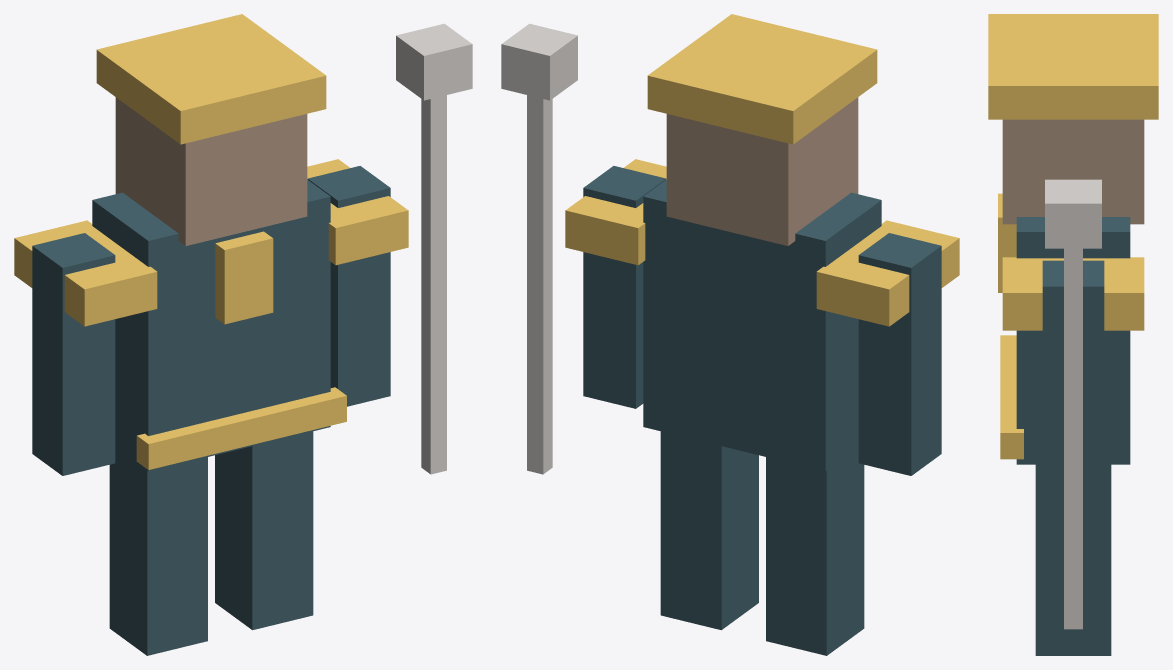
File: 10_maelis_runeclasp_tamer_of.glb
3 renders of one model, left to right at view 1: azimuth 30°, elevation 25°; view 2: azimuth 150°, elevation 25°; view 3: azimuth 270°, elevation 25°, orthographic.
Parts seen in each view (by area): view 1: Maelis Runeclasp, Tamer of; view 2: Maelis Runeclasp, Tamer of; view 3: Maelis Runeclasp, Tamer of.
Part boxes in pixels (x1,y1,x2,y2): Maelis Runeclasp, Tamer of: (14, 14, 472, 655); Maelis Runeclasp, Tamer of: (501, 14, 959, 655); Maelis Runeclasp, Tamer of: (988, 14, 1158, 655).
Bounding box in the file's own units: 1.11 × 1.44 × 0.3931.
